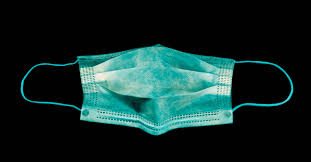cloth_mask: (20, 43, 293, 135)
